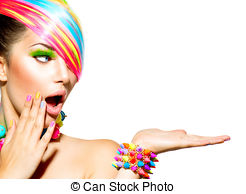face: (1, 1, 93, 136)
